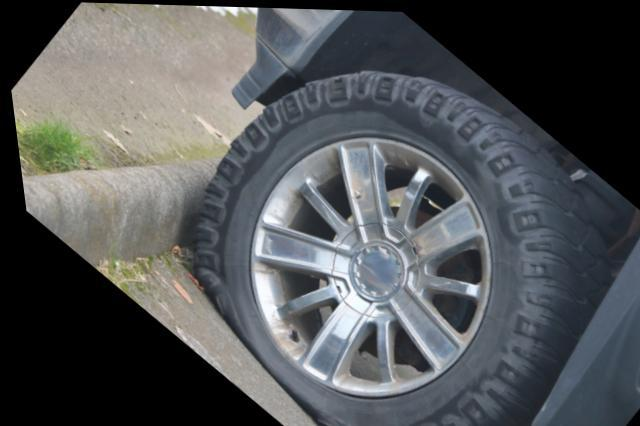tire flat: (186, 67, 608, 426)
